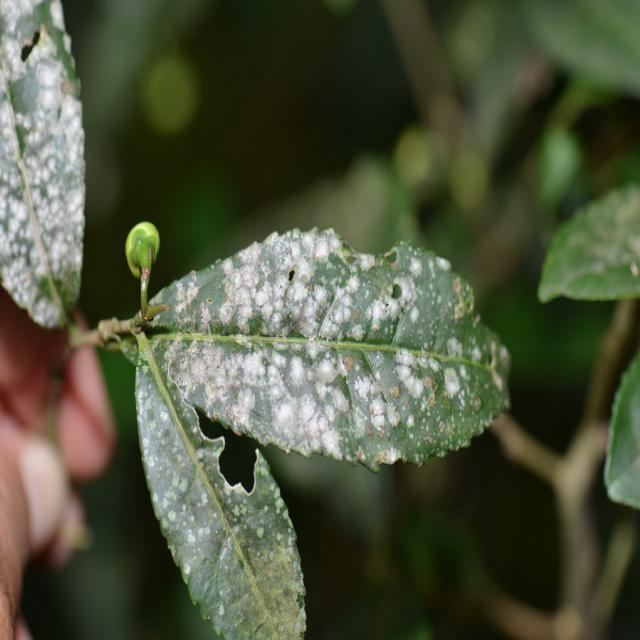Tea algae leaf spot: (175, 241, 479, 457), (142, 398, 310, 615), (11, 50, 82, 309)
